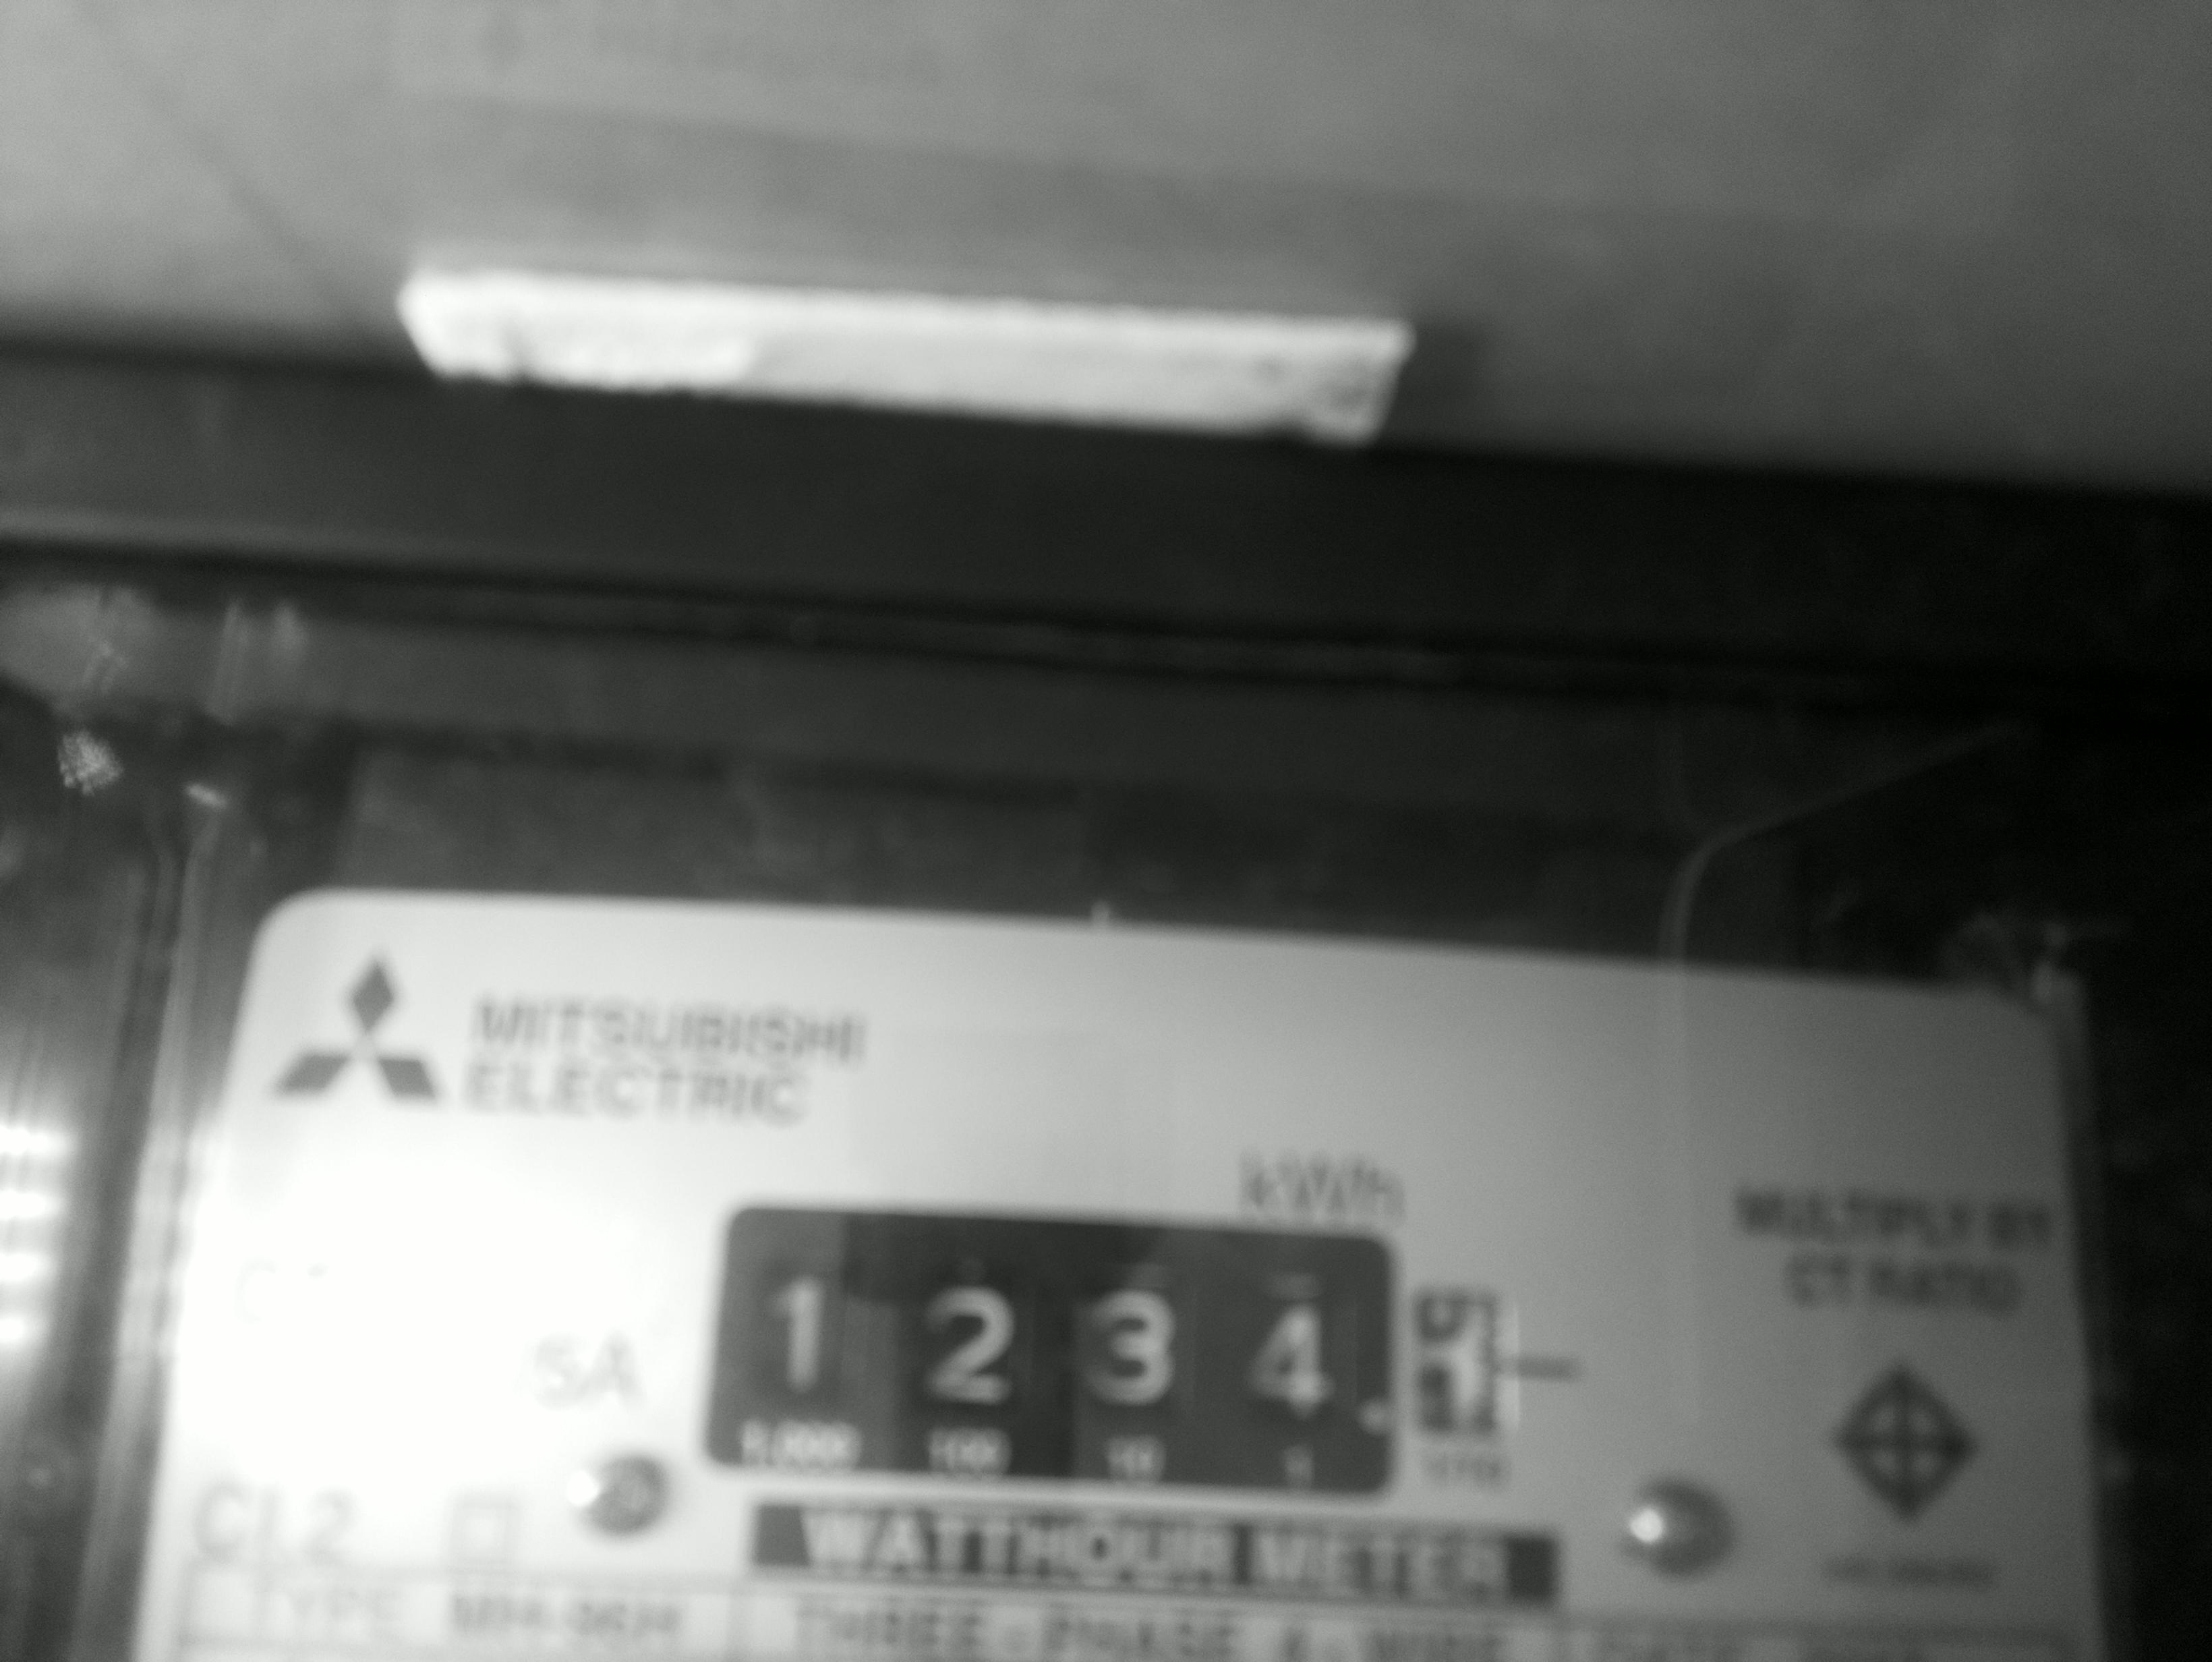meter_box: (669, 1182, 1535, 1561)
